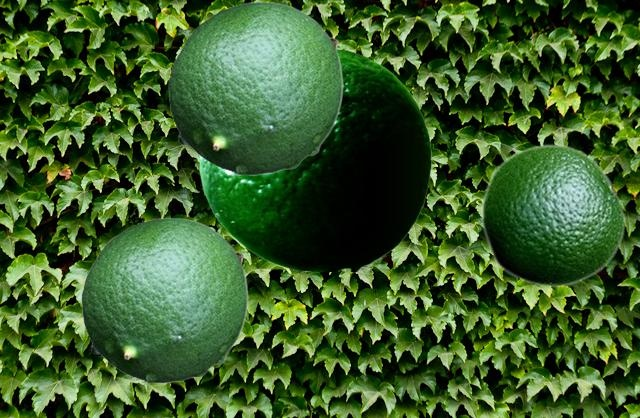calamansi: (199, 47, 430, 270), (168, 1, 342, 174), (81, 217, 247, 382), (480, 143, 625, 287)
